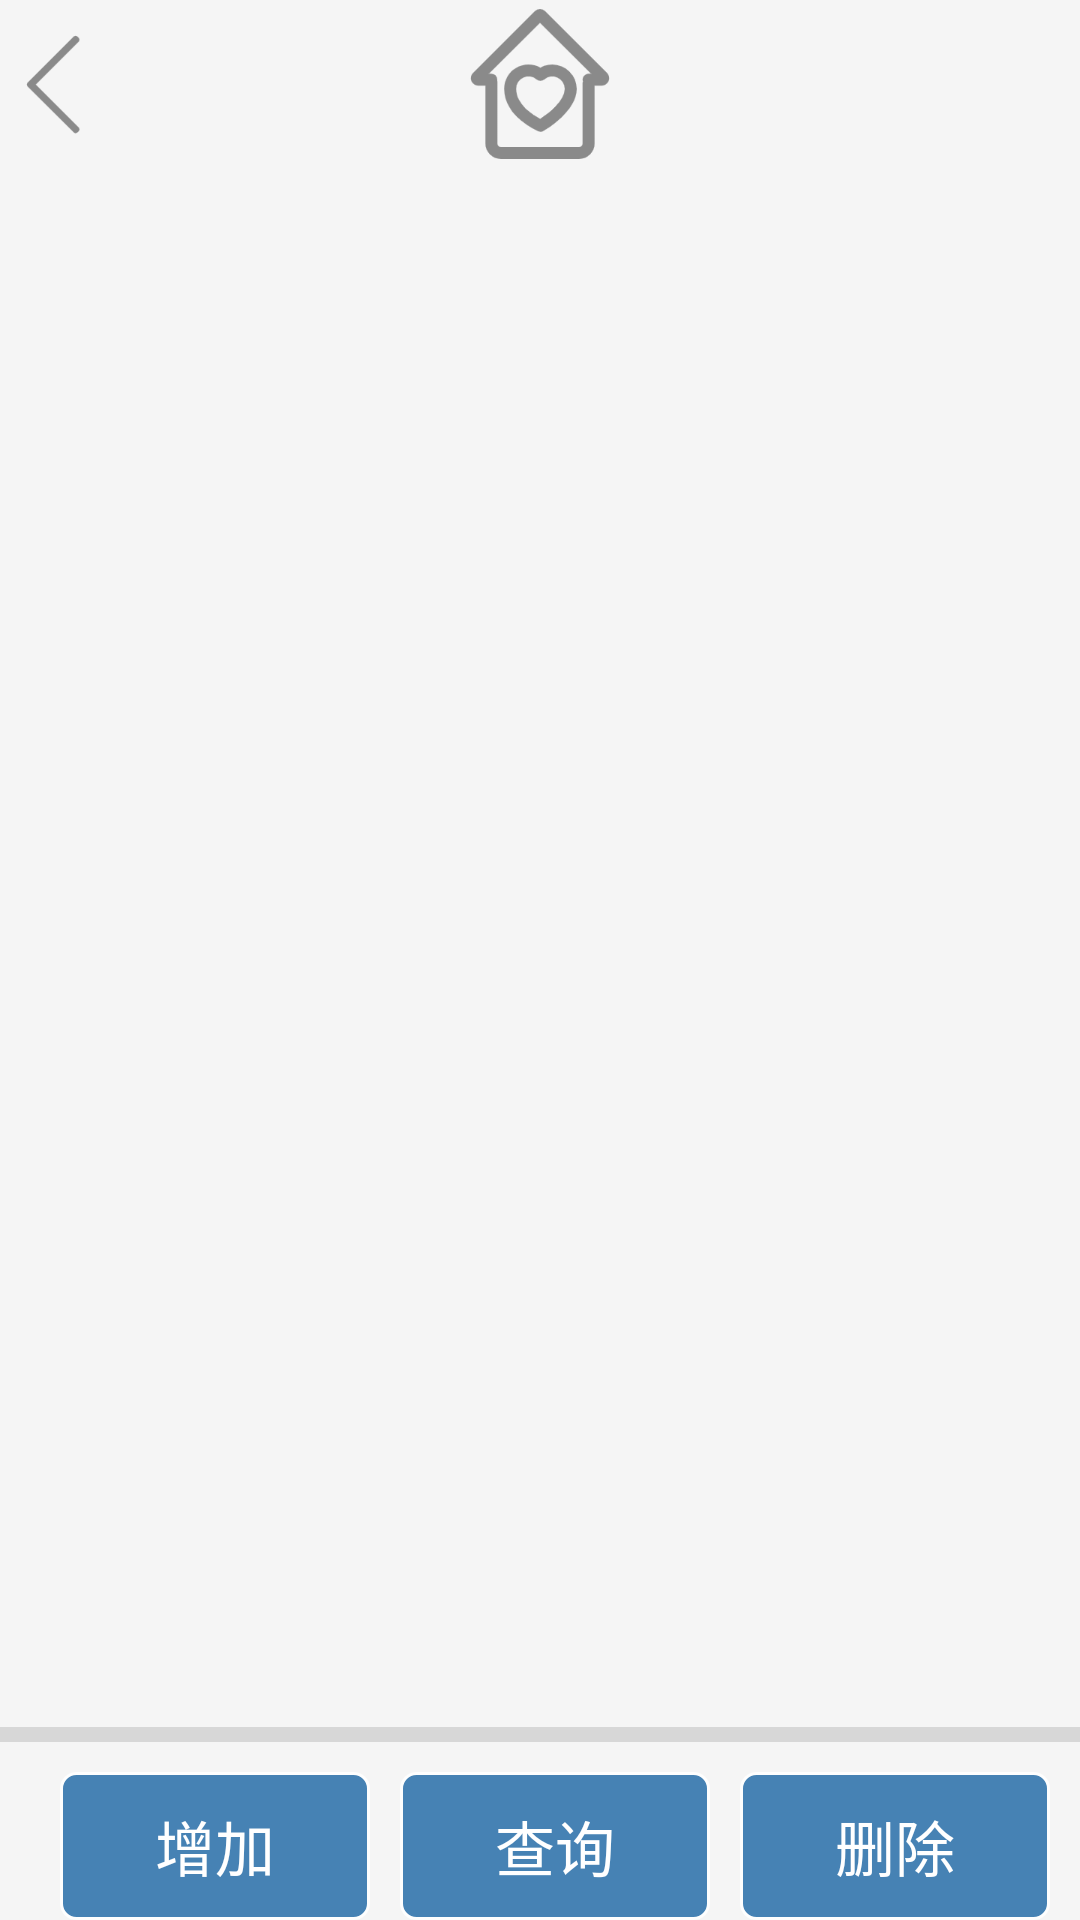

Icons on this 1080w x 1920h Android screen, each with its box as box=[x1, y1, x2, y2]:
back: box=[27, 36, 80, 134]
